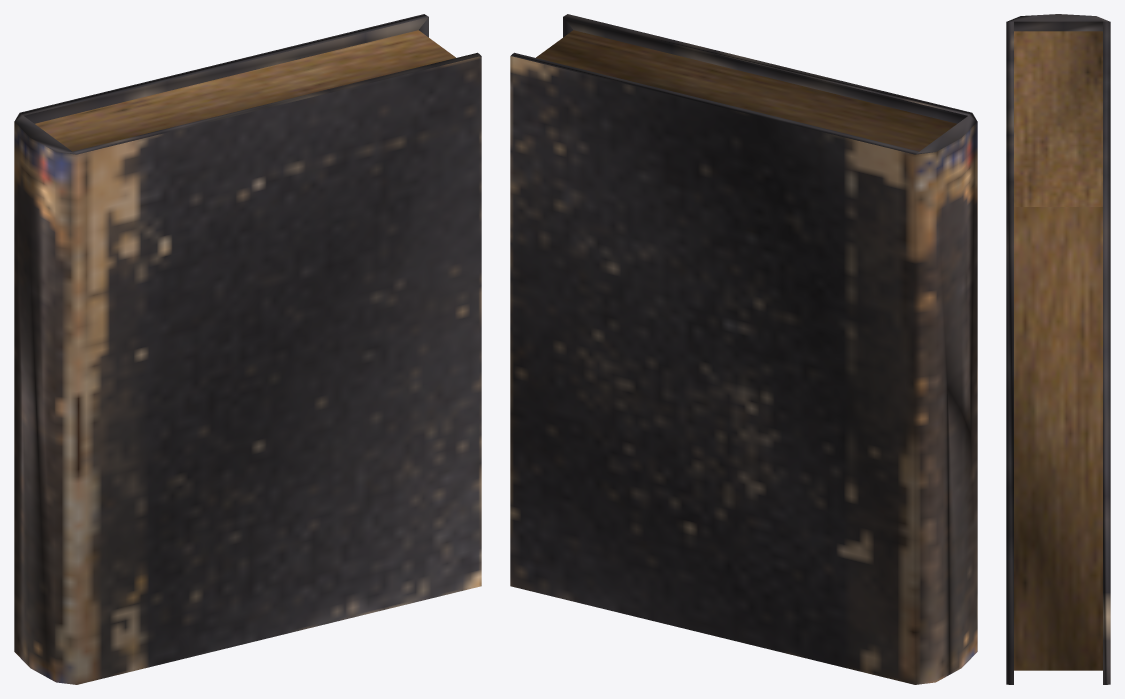
Rendered from MS_Book_4.fbx.
3 views of the same model, side by side, from view 1: azimuth 30°, elevation 25°; view 2: azimuth 150°, elevation 25°; view 3: azimuth 270°, elevation 25° (orthographic). The views are drawn at different scales.
Visible parts, largest first — view 1: MSH_Book_01; view 2: MSH_Book_01; view 3: MSH_Book_01.
Part boxes in pixels (x1,y1,x2,y2): MSH_Book_01: (14, 14, 481, 684); MSH_Book_01: (510, 14, 977, 684); MSH_Book_01: (1006, 14, 1110, 684).
Size of the model in its own units: 20.87 by 25 by 4.89.
